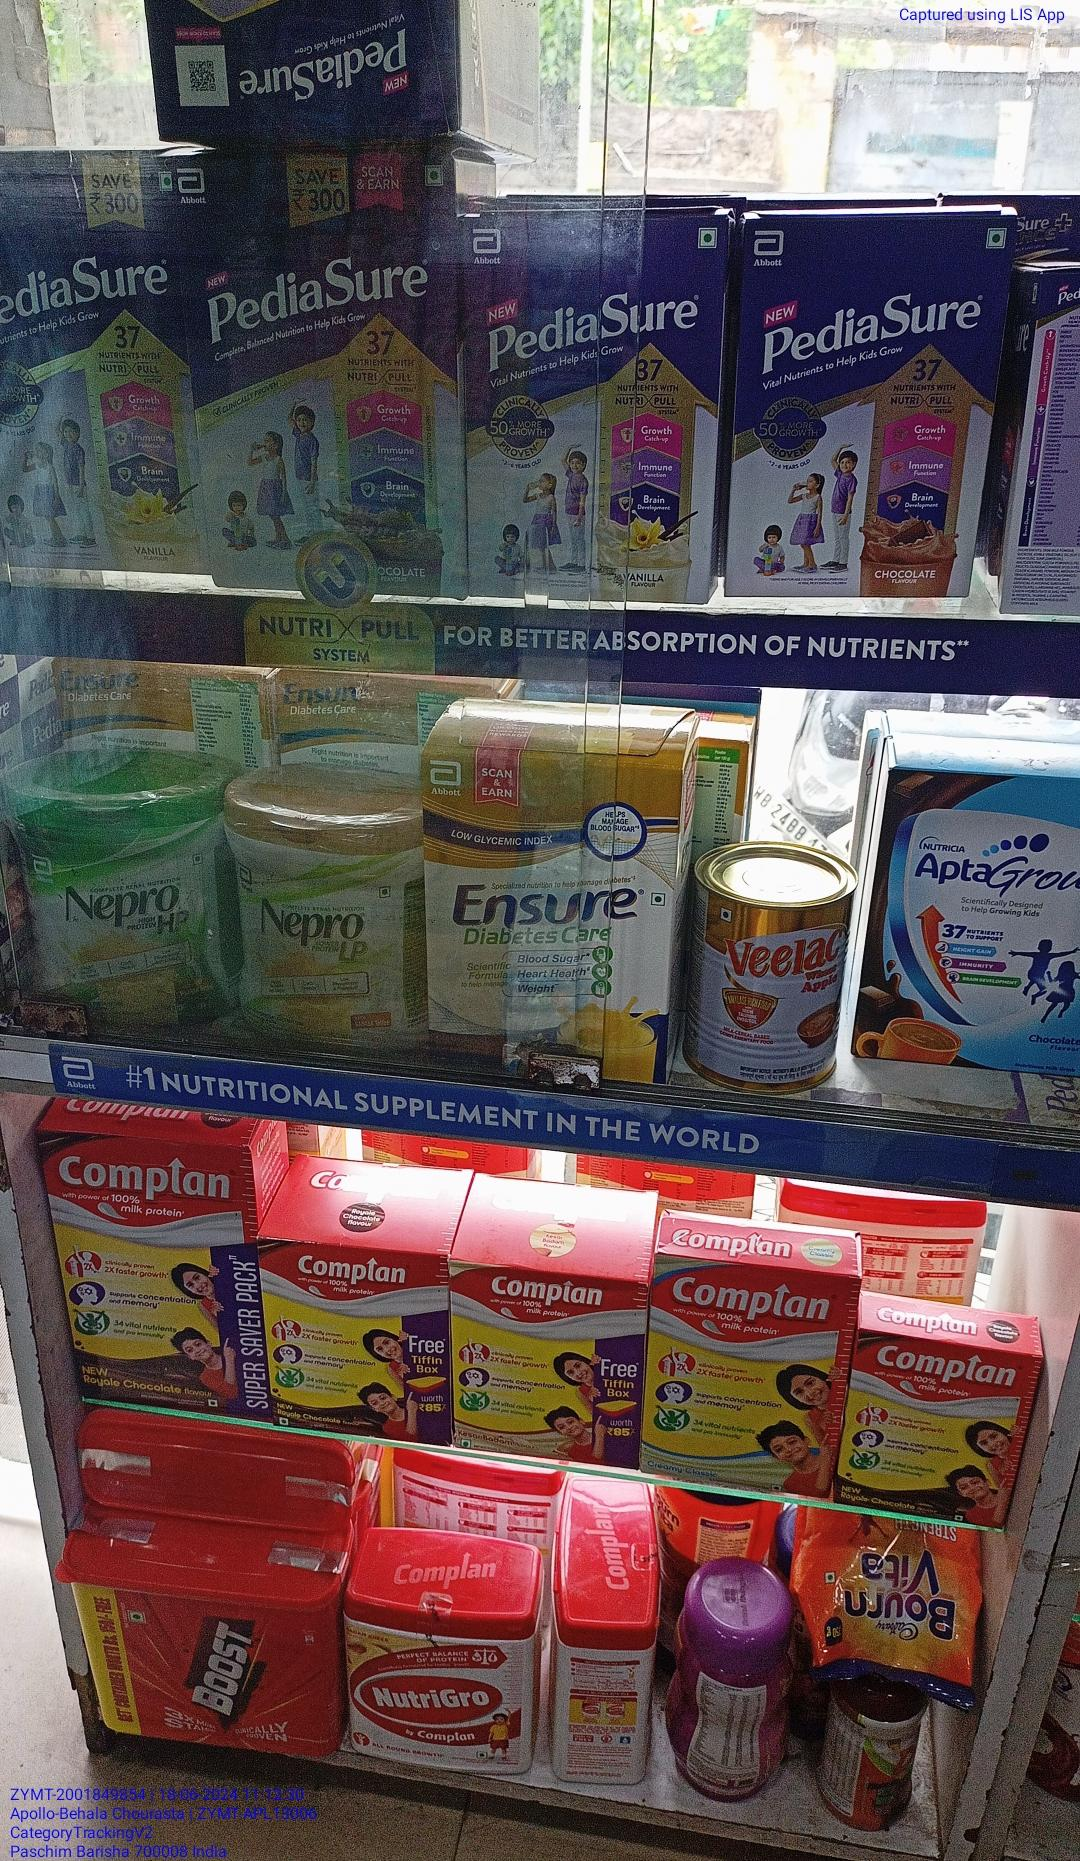COMPLAN_CHOCOLATE_1_KG_PACK: (50, 1130, 253, 1407), (847, 1320, 1003, 1515)
COMPLAN_CHOCOLATE_500_GMS_PACK: (262, 1240, 447, 1438)
COMPLAN_CREAMY_CLASSIC_500_G_PACK: (651, 1254, 834, 1469)
COMPLAN_KESAR_BADAM_500_GMS_PACK: (453, 1265, 642, 1457)
PEDIASURE_CHOCOLATE_500_G_PACK: (203, 161, 455, 536), (737, 217, 976, 600)
PEDIASURE_VANILLA_500_G_PACK: (476, 206, 705, 596)
